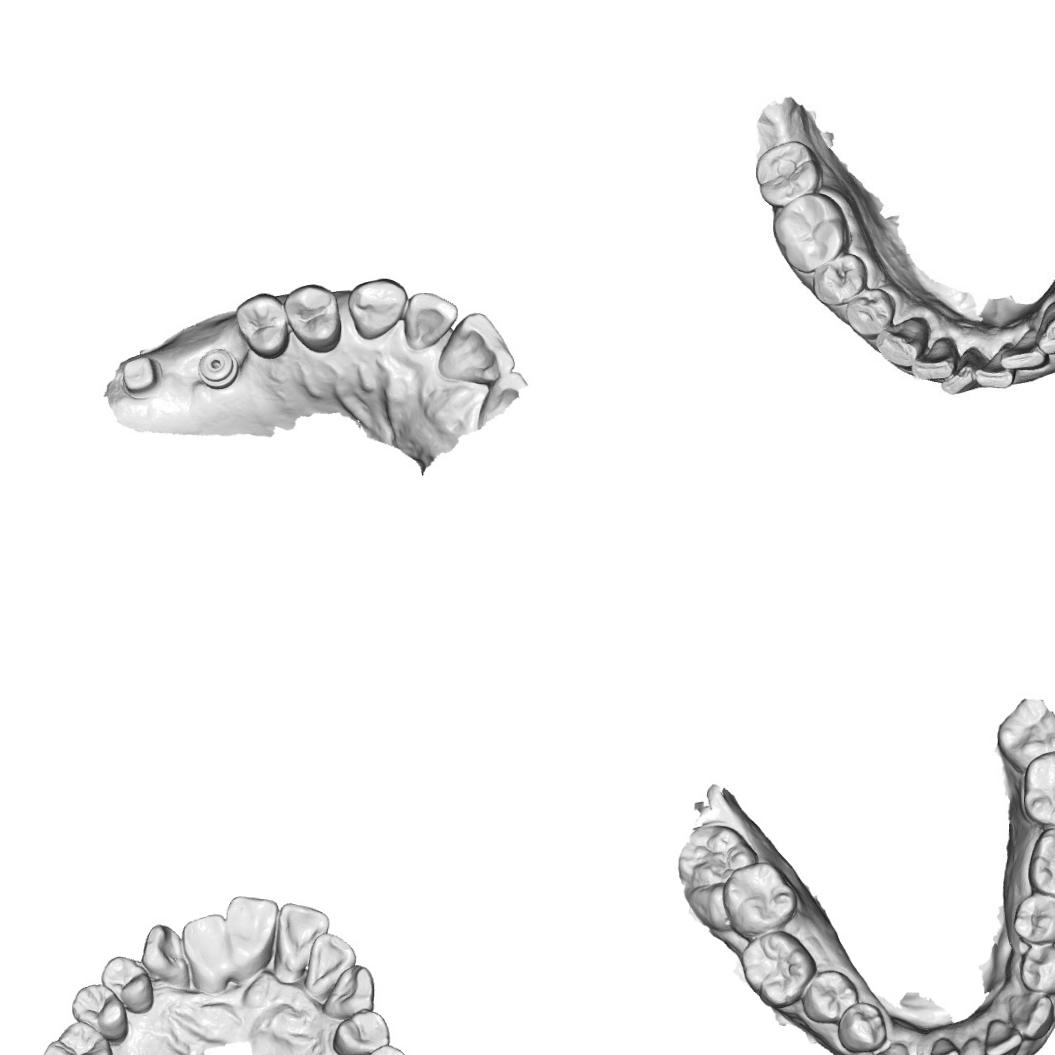abutment: (119, 350, 161, 397)
canine: (345, 275, 408, 342), (140, 922, 192, 990), (874, 312, 930, 369), (322, 962, 376, 1020), (1006, 992, 1055, 1042), (1040, 307, 1055, 359), (865, 1041, 914, 1055)
implant: (195, 349, 238, 390)
incisor: (436, 308, 518, 386), (272, 901, 330, 987), (222, 893, 278, 980), (179, 912, 230, 994), (302, 931, 358, 1002), (401, 290, 459, 351), (944, 351, 984, 397), (914, 340, 956, 383), (983, 1017, 1023, 1055), (978, 349, 1014, 391), (1005, 336, 1048, 371), (955, 1035, 994, 1055), (923, 1035, 960, 1055)
molar: (772, 192, 850, 276), (720, 860, 799, 942), (739, 928, 818, 1009), (676, 822, 759, 890), (995, 695, 1055, 777), (752, 141, 820, 202), (39, 1018, 119, 1055), (1022, 749, 1055, 828), (1026, 824, 1055, 907)
premolar: (281, 282, 343, 356), (232, 291, 292, 359), (69, 982, 130, 1042), (800, 968, 860, 1025), (99, 955, 155, 1014), (330, 1006, 391, 1055), (811, 251, 864, 305), (836, 1000, 888, 1054), (1011, 893, 1055, 947), (848, 290, 896, 333), (1017, 943, 1055, 996), (351, 1043, 413, 1055)
